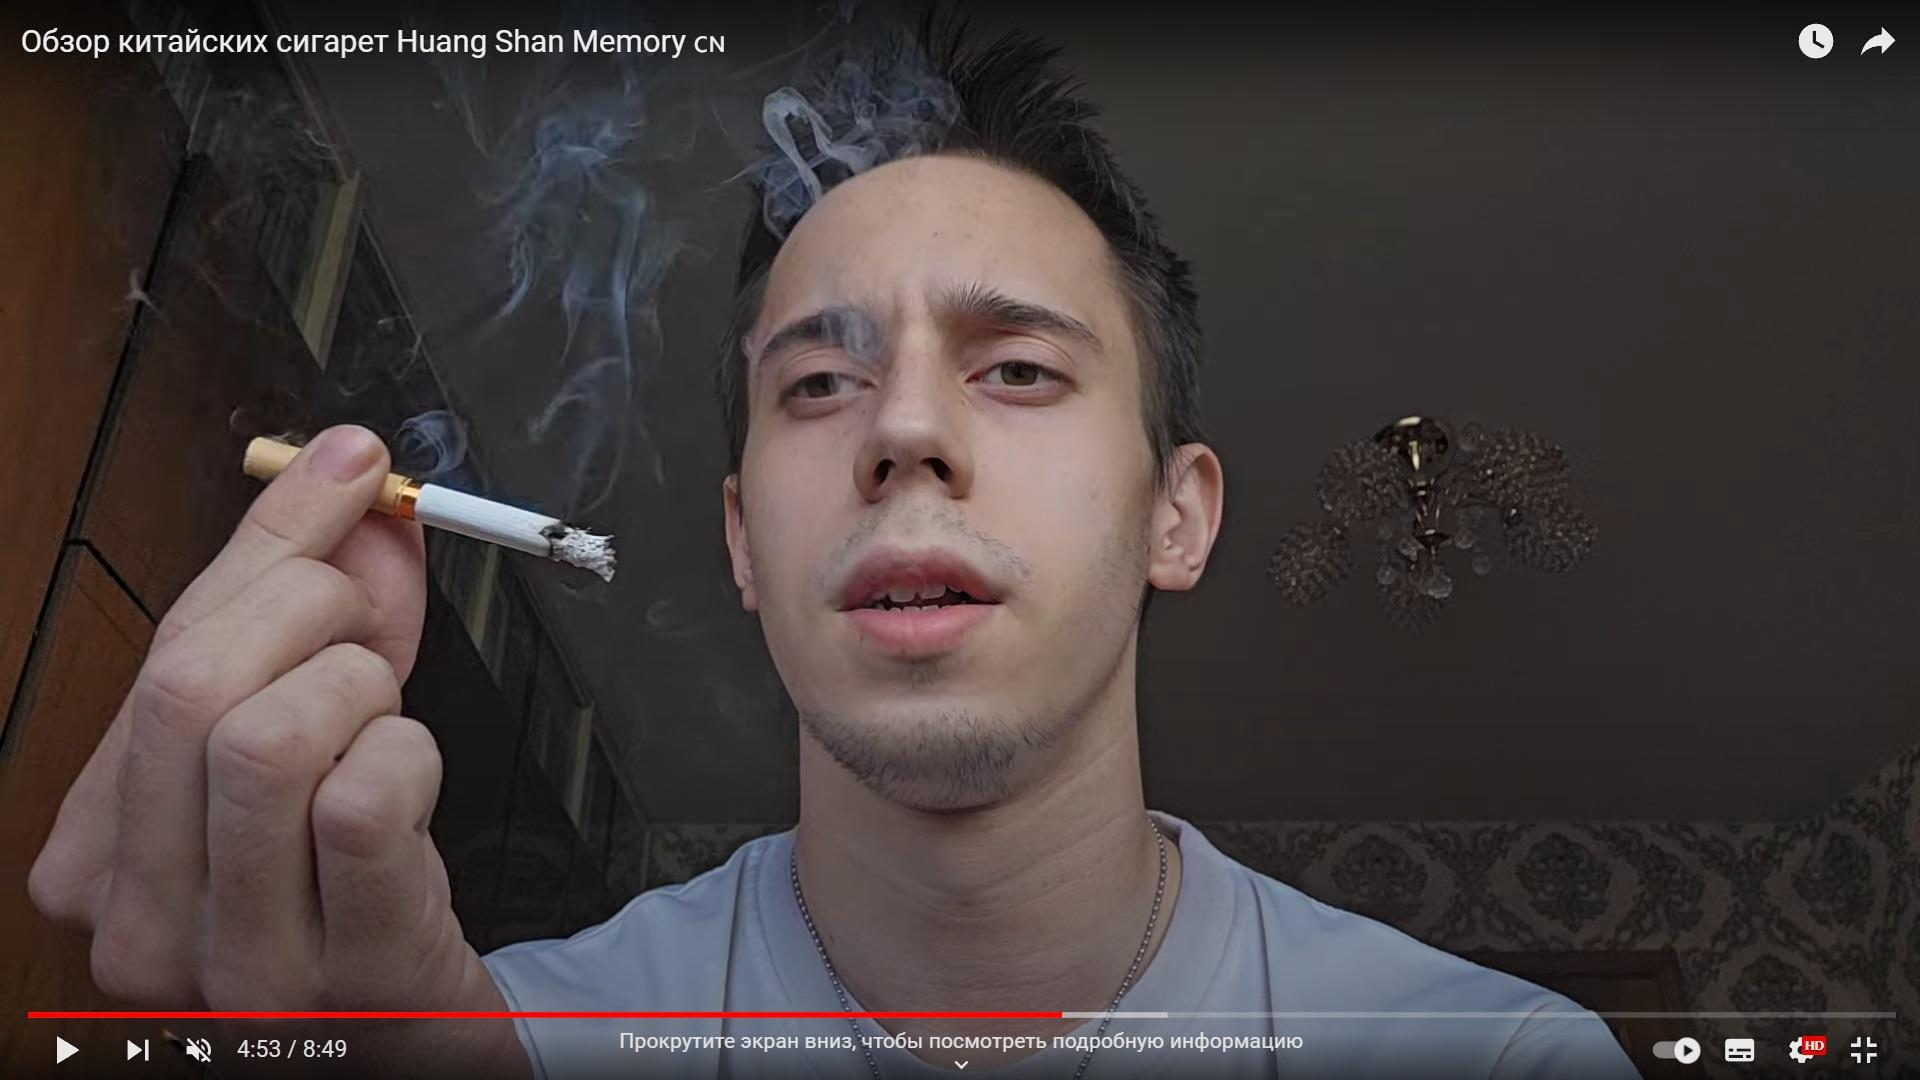cigarette: (241, 436, 618, 582)
